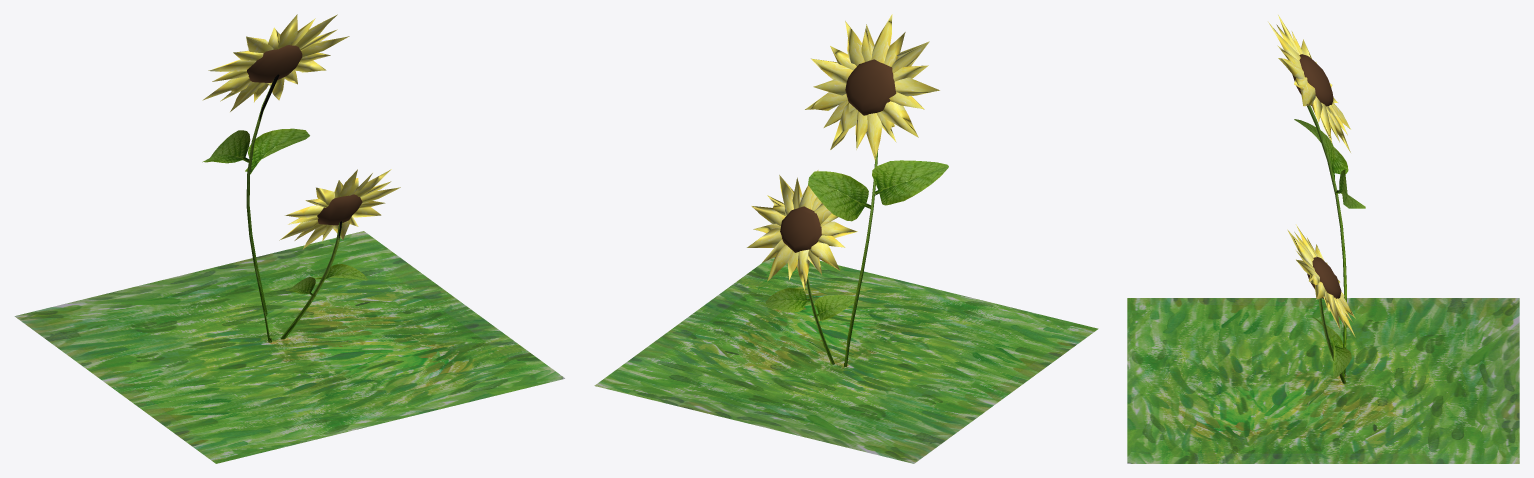
The model's file is Life6_LowPoly1.fbx.
The picture shows the model from 3 angles, left to right: view 1: azimuth 30°, elevation 25°; view 2: azimuth 150°, elevation 25°; view 3: azimuth 270°, elevation 25°; orthographic projection. The views are drawn at different scales.
Visible parts, largest first — view 1: pPlane2, group5, group4, pSphere2, pSphere3; view 2: pPlane2, group4, pSphere2, pSphere3, nurbsToPoly26, nurbsToPoly20, nurbsToPoly27, nurbsToPoly22, nurbsToPoly25, nurbsToPoly24; view 3: pPlane2, group4, pSphere2, pSphere3, group5.
Boxes of the visible parts, box(x1,y1,x2,y2) form: pPlane2: box(14, 231, 564, 463); group5: box(202, 129, 367, 295); group4: box(203, 74, 342, 342); pSphere2: box(247, 45, 302, 82); pSphere3: box(317, 194, 362, 225); pPlane2: box(594, 257, 1098, 463); group4: box(765, 149, 948, 366); pSphere2: box(845, 59, 896, 115); pSphere3: box(780, 206, 821, 252); nurbsToPoly26: box(880, 101, 918, 137); nurbsToPoly20: box(869, 14, 892, 63); nurbsToPoly27: box(894, 77, 939, 96); nurbsToPoly22: box(811, 58, 853, 83); nurbsToPoly25: box(866, 113, 882, 161); nurbsToPoly24: box(830, 102, 857, 149); pPlane2: box(1127, 298, 1519, 463); group4: box(1307, 105, 1365, 383); pSphere2: box(1292, 54, 1333, 106); pSphere3: box(1307, 257, 1341, 298); group5: box(1294, 119, 1348, 377).
Size of the model in its own units: 3.95 by 4.14 by 3.95.
Materials: 4 (3 with a texture image).
